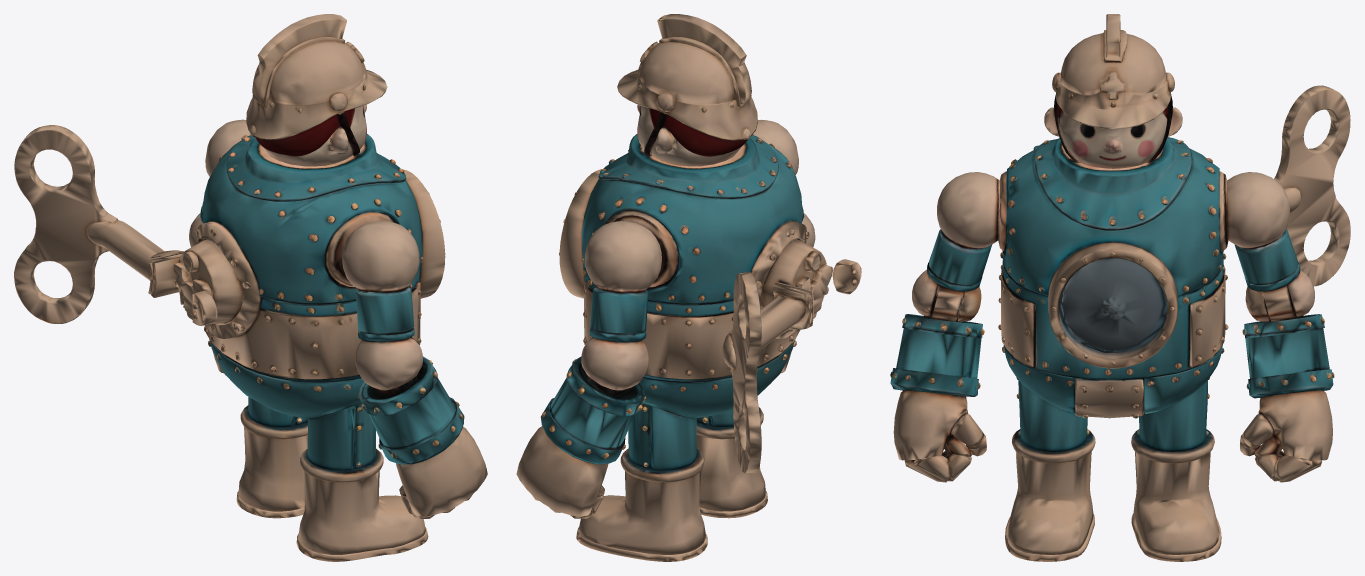
3 renders of one model, left to right at view 1: azimuth 30°, elevation 25°; view 2: azimuth 150°, elevation 25°; view 3: azimuth 270°, elevation 25°, orthographic.
Parts seen in each view (by area): view 1: Model; view 2: Model; view 3: Model.
Part boxes in pixels (x1=…): Model: x1=14, y1=14, x2=487, y2=561; Model: x1=516, y1=14, x2=861, y2=561; Model: x1=890, y1=14, x2=1350, y2=561.
Size of the model in its own units: 0.5981 by 0.9995 by 0.8267.
1 material, 1 textured.
